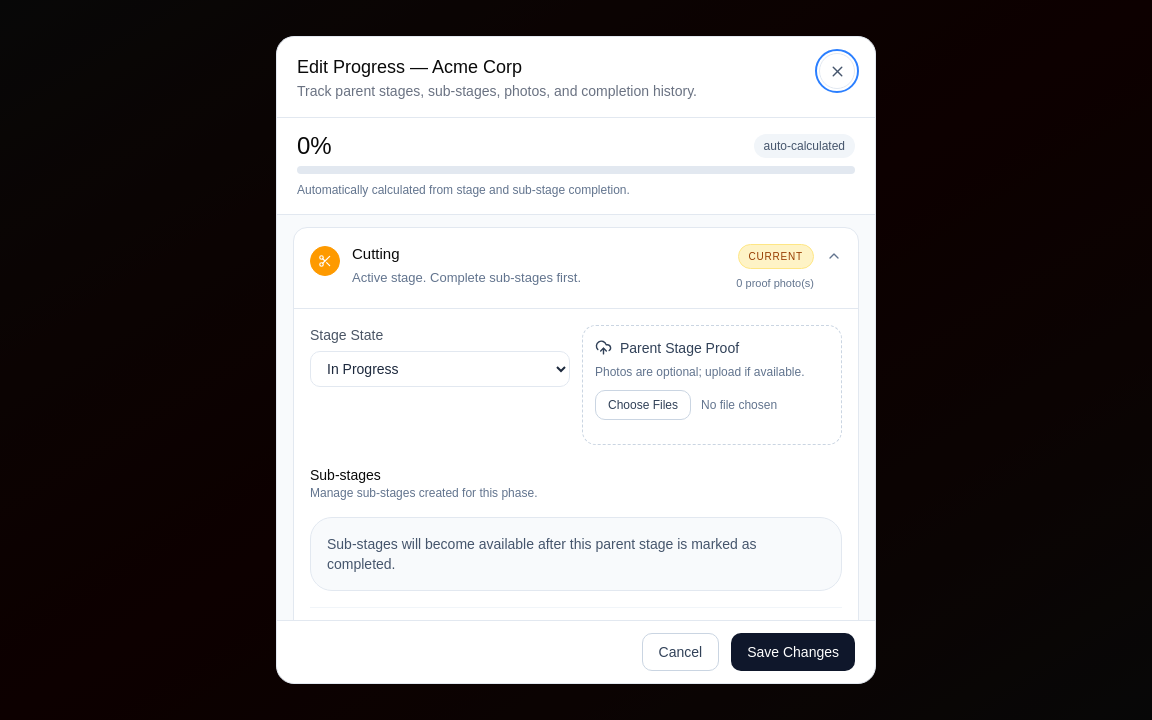
it: ProgressEditModal › accepts a one-character delay reason
Select "Delayed" in the dropdown labelled "Stage State" at (440, 368), box [310, 350, 570, 386]
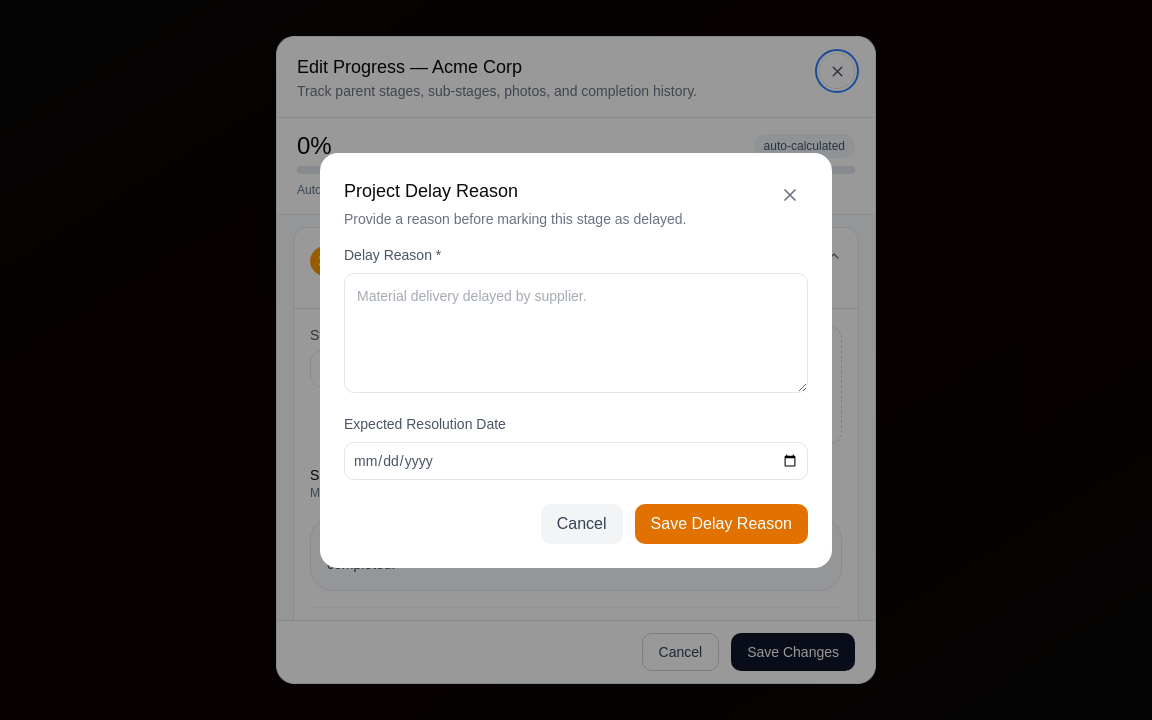
Type "X" into the text box labelled "Delay Reason *".
click(576, 332); type("X")  # box [344, 272, 808, 392]
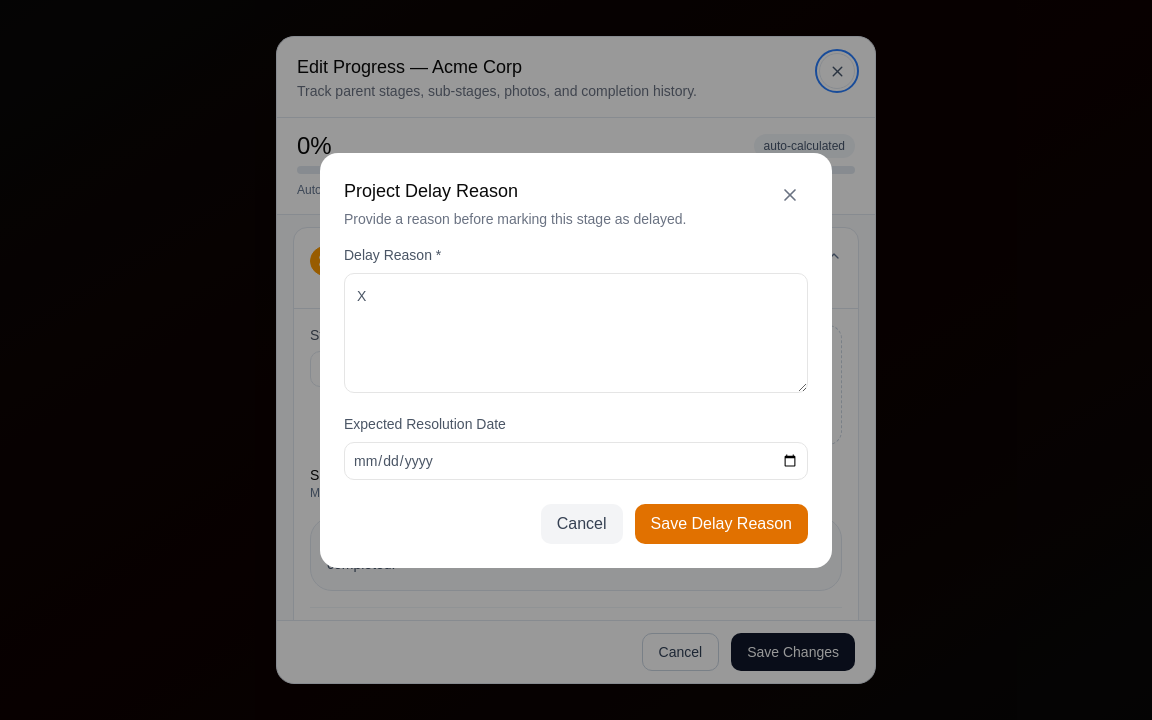
Click the button "Save Delay Reason".
click(721, 524)  # box [635, 504, 808, 544]
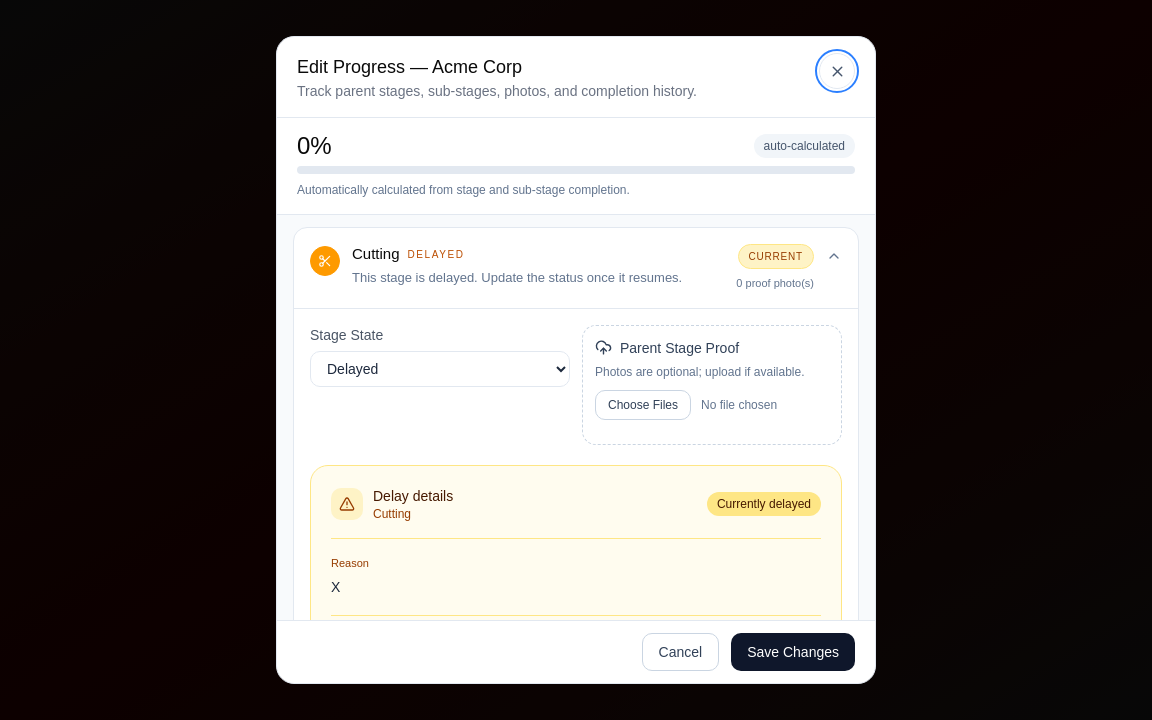
Result: the heading "Project Delay Reason" is gone
